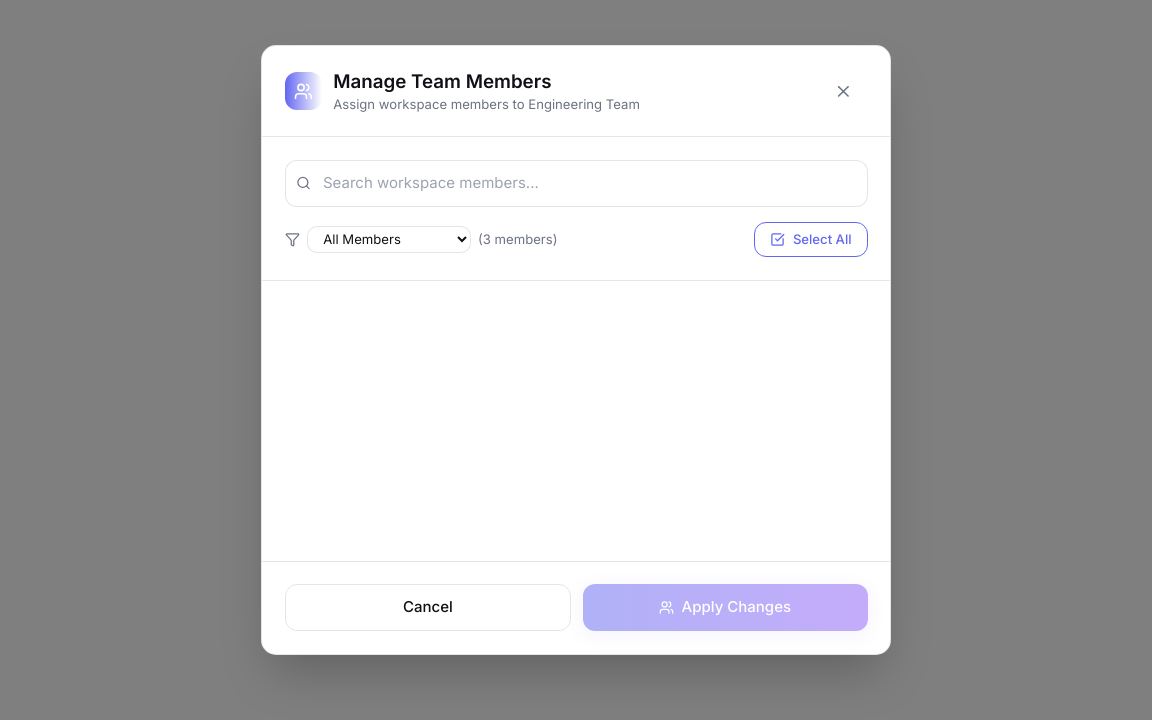
Test: TeamMemberAssignmentModal › filters members by assignment status
This screenshot has width=1152, height=720.
Expected: the text "(3 members)" is shown, [478,230,558,249]
# Filter to show only available members
Select "Available Only" in the dropdown showing "All Members": (389, 239) [307,226,470,253]
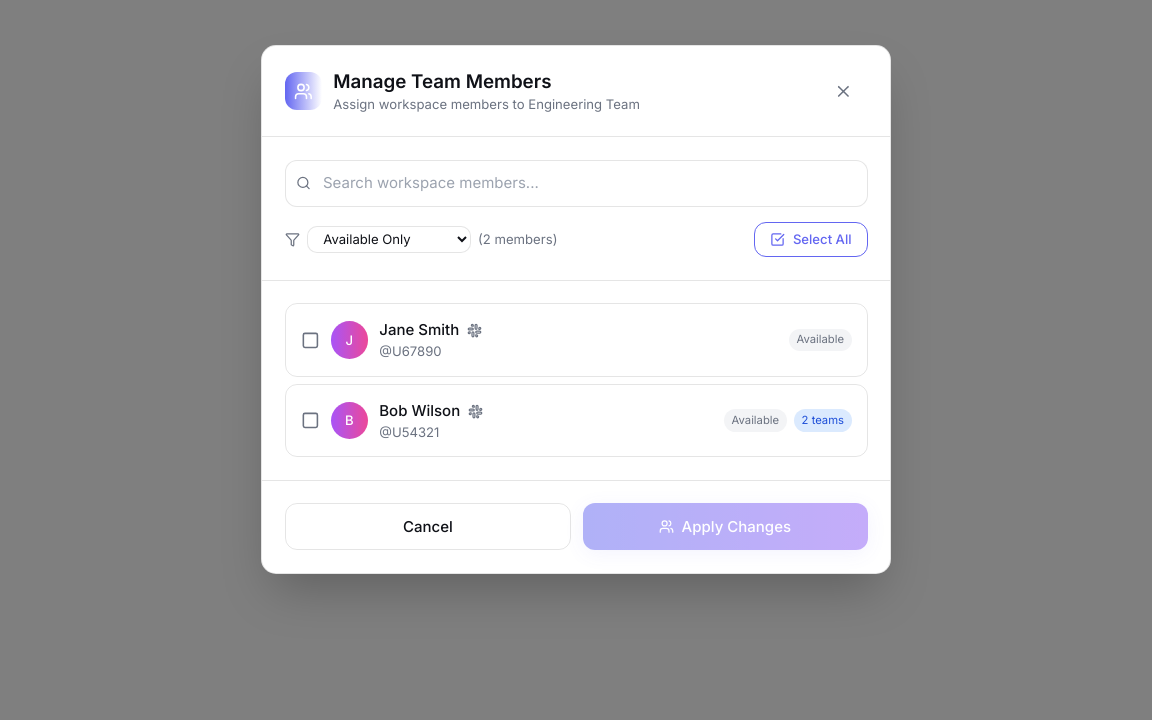
Expected: the text "(2 members)" is shown, [478,230,557,249]
Expected: the text "Jane Smith" is shown, [379,319,459,342]
Expected: the text "Bob Wilson" is shown, [379,400,460,422]
# Filter to show only assigned members
Select "Currently Assigned" in the dropdown showing "All Members": (389, 239) [307,226,470,253]
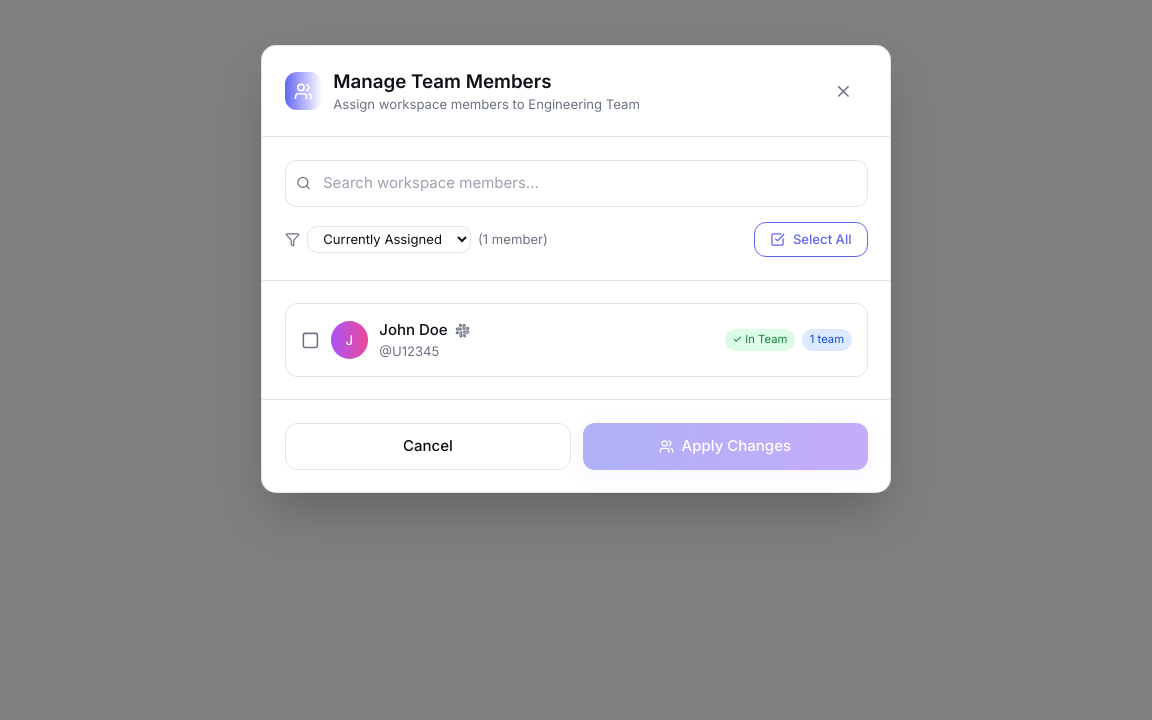
Expected: the text "(1 member)" is shown, [478,230,548,249]
Expected: the text "John Doe" is shown, [379,319,448,342]
Expected: the text "Jane Smith" is gone
